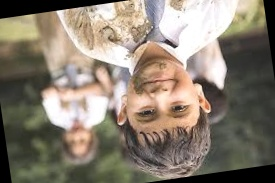earth: (112, 1, 137, 31), (80, 25, 105, 48), (132, 24, 147, 40), (170, 0, 186, 10)
